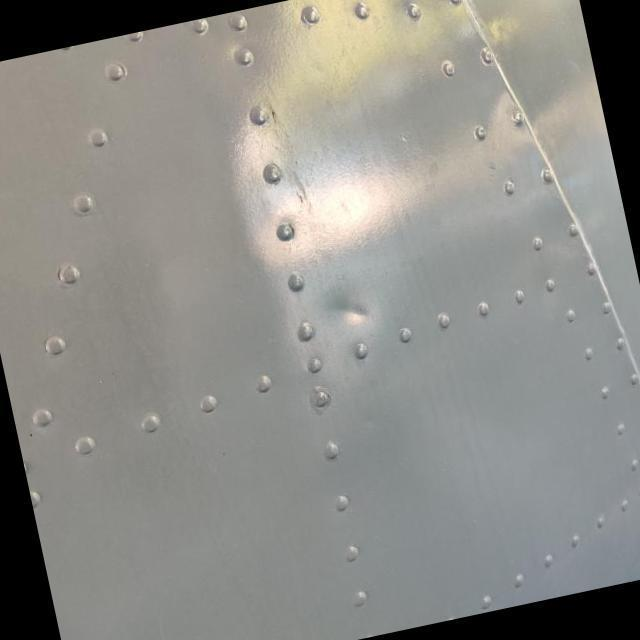Dent: (304, 267, 403, 370)
